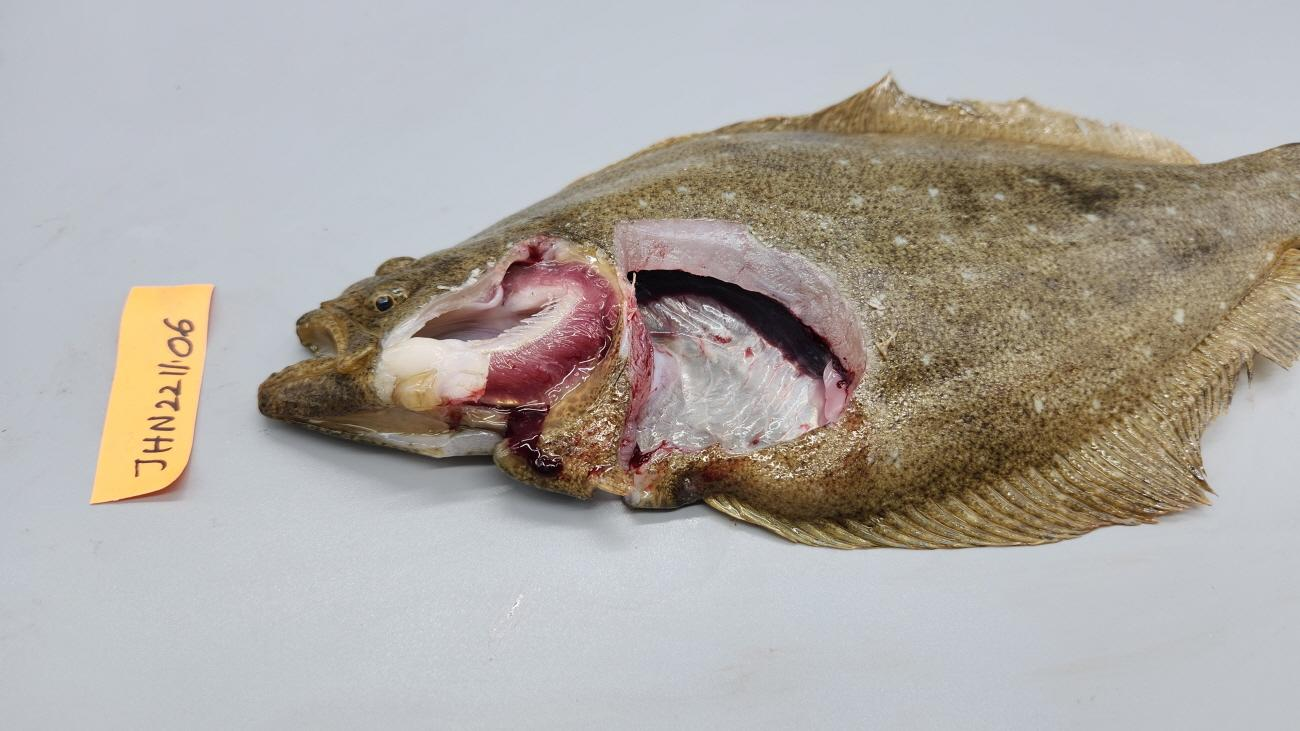POASN: (635, 293, 817, 454)
POKIN: (627, 269, 854, 386)
POREN: (809, 359, 846, 426)
